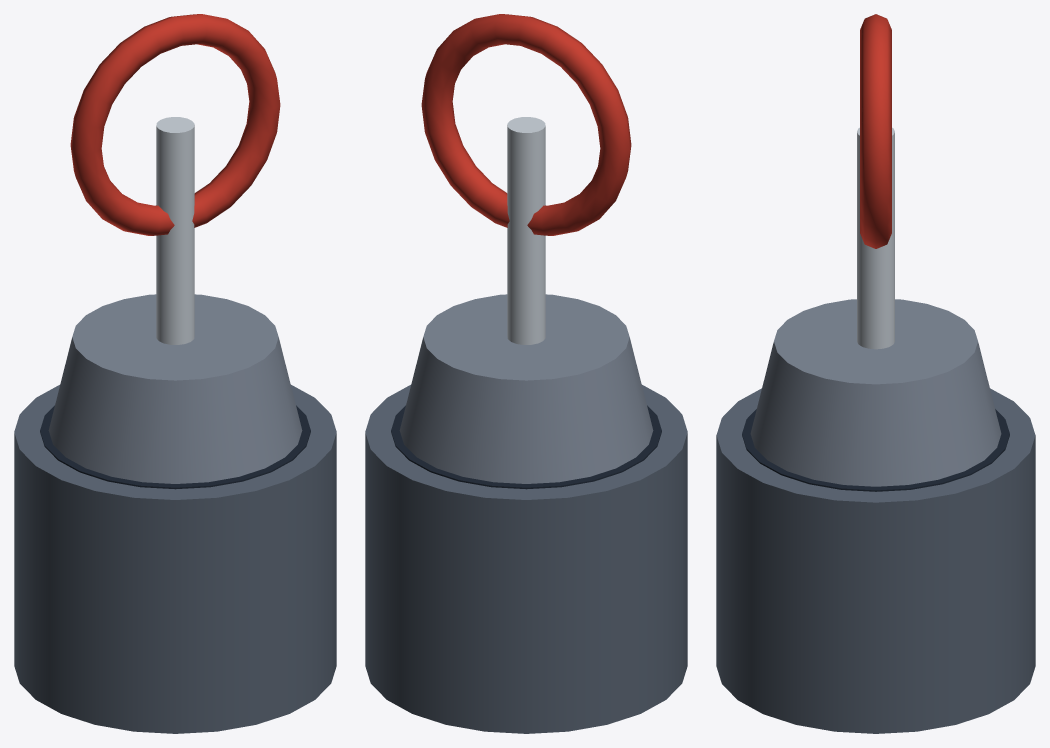
The model's file is valve.gltf.
The picture shows the model from 3 angles, left to right: view 1: azimuth 30°, elevation 25°; view 2: azimuth 150°, elevation 25°; view 3: azimuth 270°, elevation 25°; orthographic projection.
Visible parts, largest first — view 1: Valve_Body, Bonnet, Handwheel, Stem, Gasket; view 2: Valve_Body, Bonnet, Handwheel, Stem, Gasket; view 3: Valve_Body, Bonnet, Handwheel, Stem, Gasket.
Boxes of the visible parts, x1,y1,x2,y2 form: Valve_Body: [14, 384, 336, 733]; Bonnet: [48, 294, 302, 483]; Handwheel: [70, 14, 280, 235]; Stem: [156, 117, 194, 344]; Gasket: [40, 405, 310, 489]; Valve_Body: [365, 384, 687, 733]; Bonnet: [399, 294, 653, 483]; Handwheel: [421, 14, 631, 235]; Stem: [507, 117, 545, 344]; Gasket: [391, 405, 661, 489]; Valve_Body: [716, 388, 1035, 733]; Bonnet: [750, 299, 1001, 486]; Handwheel: [860, 14, 891, 248]; Stem: [857, 127, 894, 349]; Gasket: [742, 409, 1009, 491].
Size of the model in its own units: 1 by 2.22 by 1.
